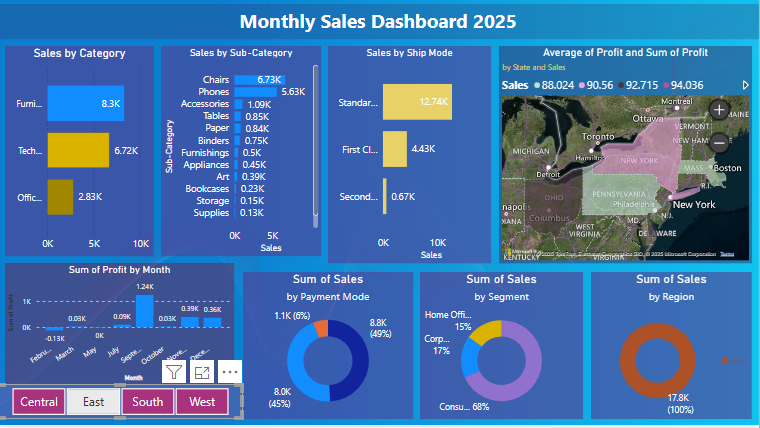

This screenshot's page, from the dashboard's own definition file:
{"tool":"powerbi","page":{"name":"Page 1","canvas":[1280,720],"ordinal":0},"visuals":[{"type":"clusteredBarChart","fields":{"Category":["Sheet1.Category"],"Y":["Sum(Sheet1.Sales)"]},"box":[13.4,82.3,250.3,352.8],"z":0},{"type":"clusteredBarChart","fields":{"Y":["Sum(Sheet1.Sales)"],"Category":["Sheet1.Sub-Category"]},"box":[275.5,82.3,268.8,352.8],"z":1},{"type":"clusteredBarChart","fields":{"Y":["Sum(Sheet1.Sales)"],"Category":["Sheet1.Ship Mode"]},"box":[556,82.3,273.8,364.5],"z":2},{"type":"clusteredColumnChart","fields":{"Category":["Sheet1.Order Date.Variation.Date Hierarchy.Month"],"Y":["Sum(Sheet1.Profit)"]},"box":[13.4,446.8,384.7,203.3],"z":4},{"type":"filledMap","fields":{"Category":["Sheet1.State"],"Series":["Sheet1.Sales"],"Y":["Avg(Sheet1.Profit)"]},"box":[843.3,82.3,425,364.5],"z":5},{"type":"textbox","box":[0,11.8,1280,58.8],"z":6},{"type":"donutChart","fields":{"Category":["Sheet1.Segment"],"Y":["Sum(Sheet1.Sales)"]},"box":[710.6,461.9,273.8,246.9],"z":7},{"type":"donutChart","fields":{"Y":["Sum(Sheet1.Sales)"],"Category":["Sheet1.Region"]},"box":[997.8,461.9,270.4,246.9],"z":8},{"type":"donutChart","fields":{"Y":["Sum(Sheet1.Sales)"],"Category":["Sheet1.Payment Mode"]},"box":[413.2,461.9,285.6,246.9],"z":9},{"type":"slicer","fields":{"Values":["Sheet1.Region"]},"box":[0,650.1,413.2,58.8],"z":10}]}

Visuals, with their boxes in screenshot pixels (x1, y1, x2, y2), scaled from the page's 1280x720 canvas onto the 760x428 screenshot:
clusteredBarChart - Sheet1.Category x Sum(Sheet1.Sales): {"left": 8, "top": 49, "right": 157, "bottom": 259}
clusteredBarChart - Sum(Sheet1.Sales) x Sheet1.Sub-Category: {"left": 164, "top": 49, "right": 323, "bottom": 259}
clusteredBarChart - Sum(Sheet1.Sales) x Sheet1.Ship Mode: {"left": 330, "top": 49, "right": 493, "bottom": 266}
clusteredColumnChart - Sheet1.Order Date.Variation.Date Hierarchy.Month x Sum(Sheet1.Profit): {"left": 8, "top": 266, "right": 236, "bottom": 386}
filledMap - Sheet1.State x Sheet1.Sales: {"left": 501, "top": 49, "right": 753, "bottom": 266}
textbox: {"left": 0, "top": 7, "right": 759, "bottom": 42}
donutChart - Sheet1.Segment x Sum(Sheet1.Sales): {"left": 422, "top": 275, "right": 584, "bottom": 421}
donutChart - Sum(Sheet1.Sales) x Sheet1.Region: {"left": 592, "top": 275, "right": 753, "bottom": 421}
donutChart - Sum(Sheet1.Sales) x Sheet1.Payment Mode: {"left": 245, "top": 275, "right": 415, "bottom": 421}
slicer - Sheet1.Region: {"left": 0, "top": 386, "right": 245, "bottom": 421}
